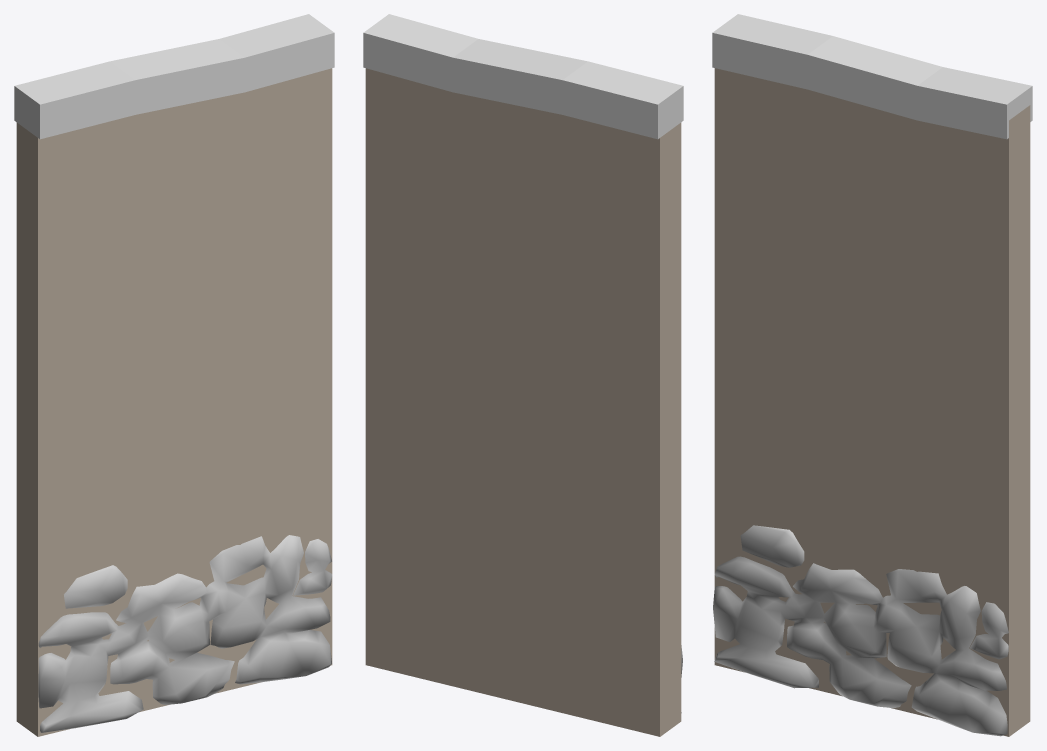
The model's file is Foundation_Wall_1.fbx.
3 views of the same model, side by side, from view 1: azimuth 30°, elevation 25°; view 2: azimuth 150°, elevation 25°; view 3: azimuth 330°, elevation 25° (orthographic).
Visible parts, largest first — view 1: Foundation_Wall_1_LOD0; view 2: Foundation_Wall_1_LOD0; view 3: Foundation_Wall_1_LOD0.
Boxes of the visible parts, bbox=[...] form: Foundation_Wall_1_LOD0: bbox=[14, 14, 334, 736]; Foundation_Wall_1_LOD0: bbox=[363, 14, 683, 736]; Foundation_Wall_1_LOD0: bbox=[712, 14, 1032, 736].
Size of what is drawn, in the model's own units: 200 by 412 by 33.81.
